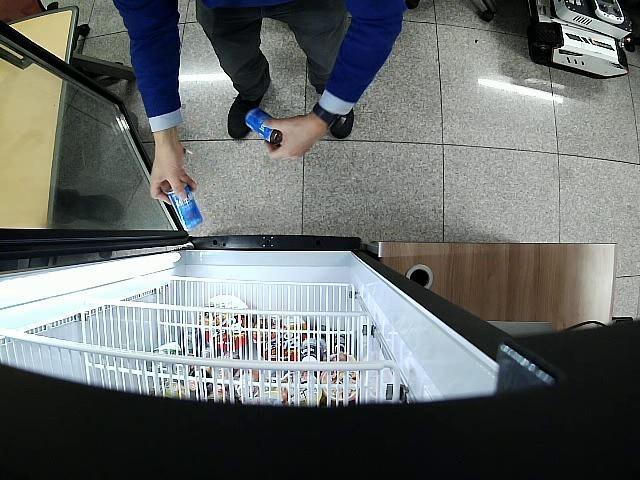15_letsbe: (166, 183, 204, 230), (244, 108, 282, 144)
